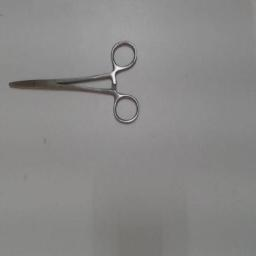Mayo Needle Holder: (0, 38, 144, 132)
